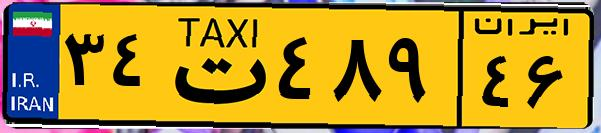3: (57, 26, 110, 100)
4: (270, 28, 330, 110), (475, 38, 525, 113), (110, 28, 158, 98)
6: (525, 38, 570, 115)
8: (330, 28, 385, 110)
9: (385, 28, 445, 110)
ت: (158, 12, 270, 120)
